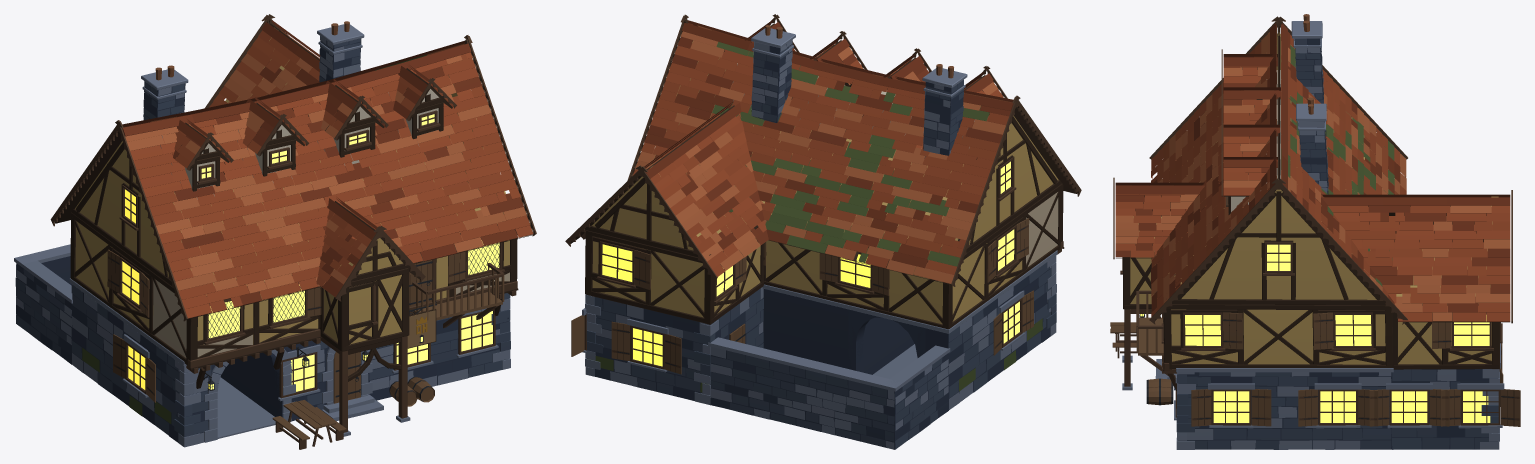
The model's file is inn.glb.
3 views of the same model, side by side, from view 1: azimuth 30°, elevation 25°; view 2: azimuth 150°, elevation 25°; view 3: azimuth 270°, elevation 25° (orthographic). The views are drawn at different scales.
Visible parts, largest first — view 1: isl_inn; view 2: isl_inn; view 3: isl_inn.
Boxes of the visible parts, x1,y1,x2,y2 form: isl_inn: (14, 14, 536, 449); isl_inn: (565, 14, 1081, 449); isl_inn: (1110, 14, 1520, 449).
Bounding box in the file's own units: 13.04 × 11.27 × 13.82.
